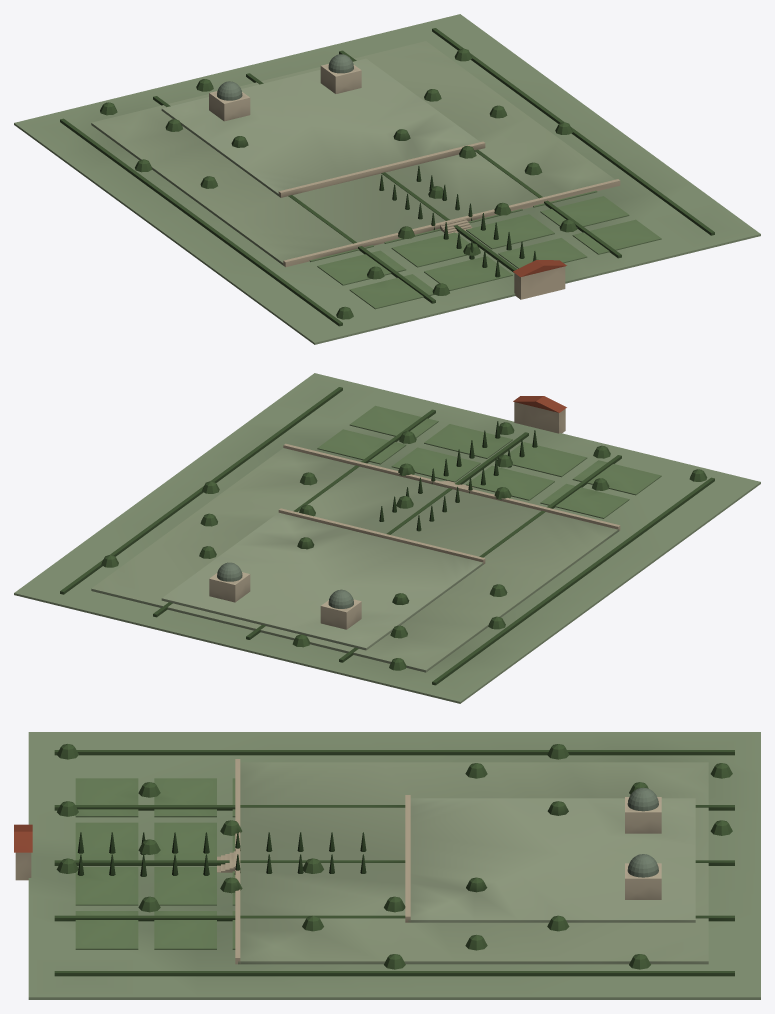
Rendered from orti-farnesiani.glb.
3 renders of one model, top to bottom at view 1: azimuth 30°, elevation 25°; view 2: azimuth 150°, elevation 25°; view 3: azimuth 270°, elevation 25°, orthographic. The views are drawn at different scales.
Parts seen in each view (by area): view 1: p0_terraces, p1_garden, p2_pavilions; view 2: p0_terraces, p1_garden, p2_pavilions; view 3: p0_terraces, p1_garden, p2_pavilions.
Part boxes in pixels (bbox=[...]): p0_terraces: bbox=[14, 14, 760, 344]; p1_garden: bbox=[60, 28, 714, 326]; p2_pavilions: bbox=[209, 54, 566, 299]; p0_terraces: bbox=[14, 373, 760, 703]; p1_garden: bbox=[60, 387, 714, 685]; p2_pavilions: bbox=[209, 396, 566, 629]; p0_terraces: bbox=[28, 732, 760, 999]; p1_garden: bbox=[54, 744, 734, 976]; p2_pavilions: bbox=[14, 787, 661, 899].
Size of the model in its own units: 240 by 19 by 286.
